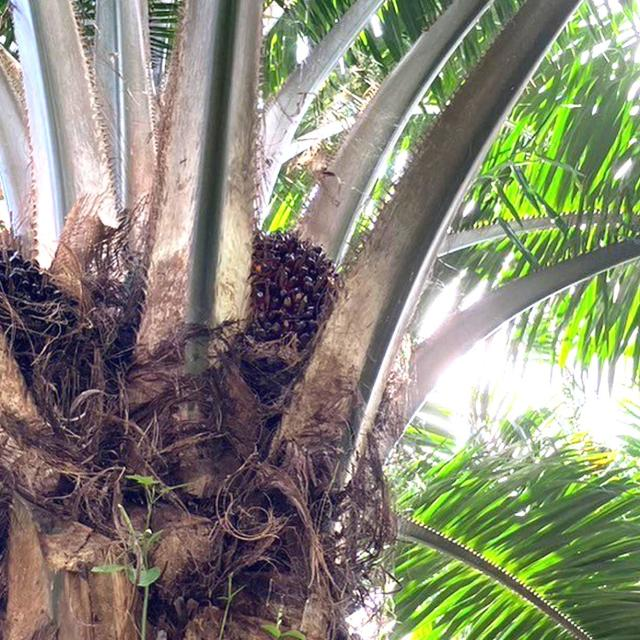almost: (237, 224, 346, 364)
